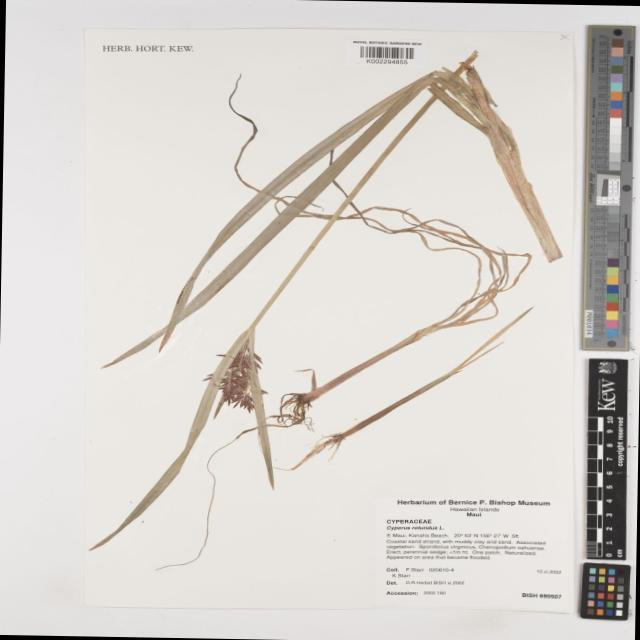cyperus: (194, 342, 278, 422)
